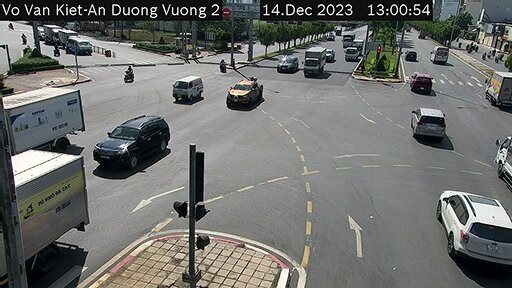car: (88, 111, 181, 179), (432, 184, 504, 256), (405, 104, 448, 135), (227, 77, 261, 109), (170, 74, 201, 102), (414, 71, 434, 95), (280, 51, 298, 77)
truck: (8, 91, 103, 288), (483, 68, 509, 113), (300, 48, 324, 85), (433, 42, 452, 69)
